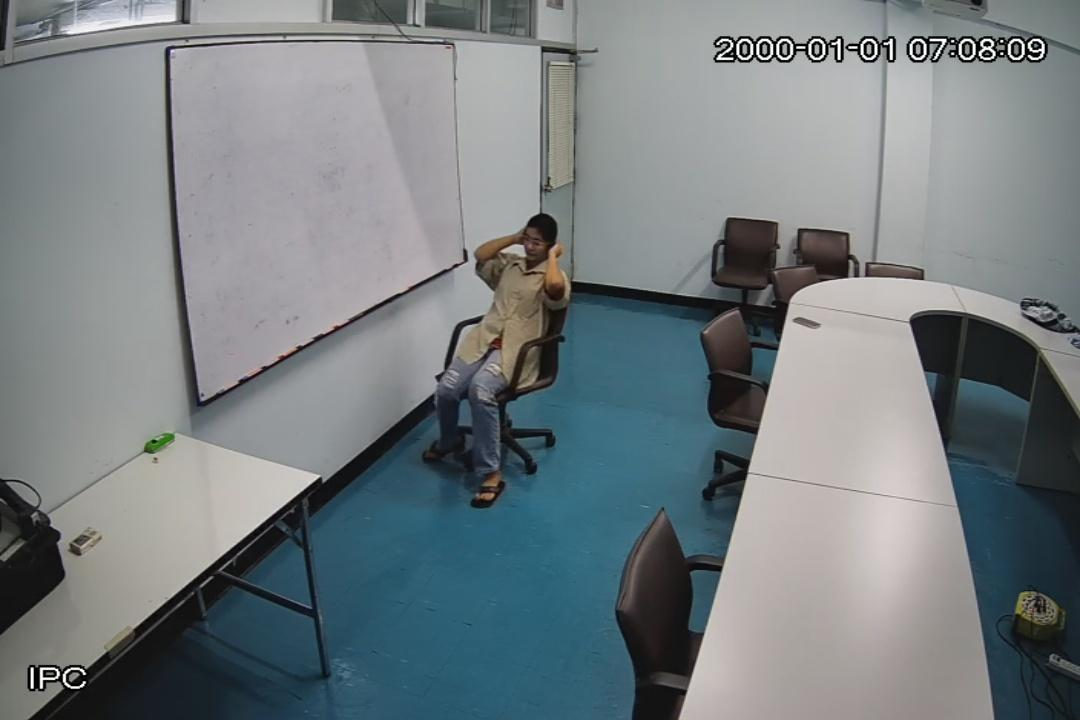normal: (429, 212, 574, 503)
